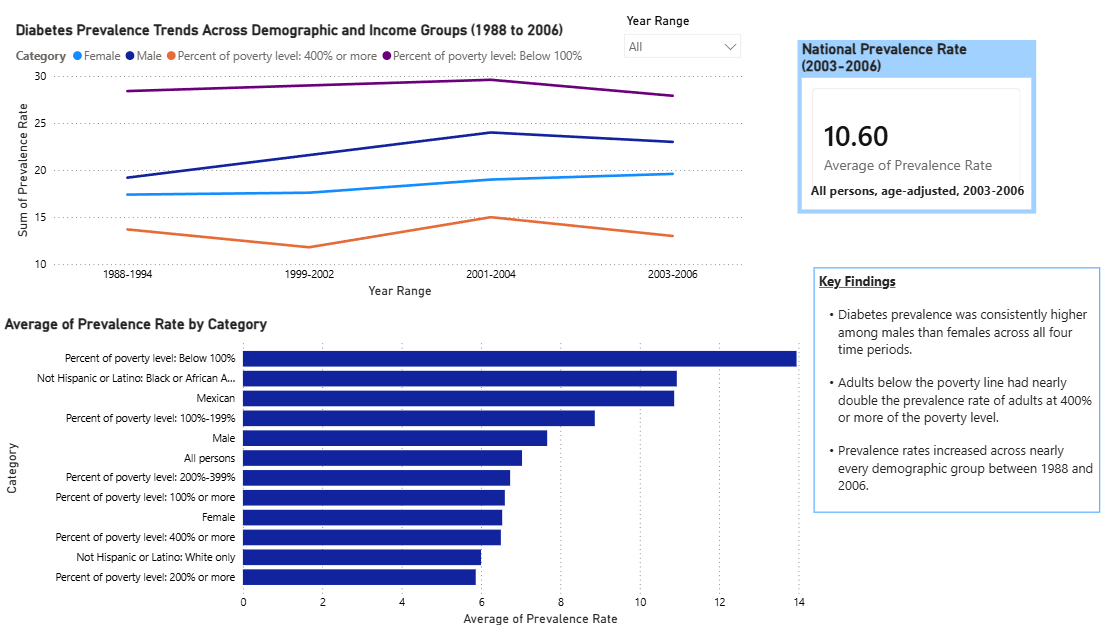

The page's visual inventory and layout, read from the dashboard file:
{"tool":"powerbi","page":{"name":"Page 1","canvas":[1280,720],"ordinal":0},"visuals":[{"type":"lineChart","title":"Diabetes Prevalence Trends Across Demographic and Income Groups (1988 to 2006)","fields":{"Category":["diabetes_data.Year Range"],"Y":["Sum(diabetes_data.Prevalence Rate)"],"Series":["diabetes_data.Category"]},"box":[12.9,24.3,844.3,321.4],"z":0},{"type":"clusteredBarChart","fields":{"Category":["diabetes_data.Category"],"Y":["Avg(diabetes_data.Prevalence Rate)"]},"box":[0,359.5,970.2,360.9],"z":1000},{"type":"cardVisual","title":"National Prevalence Rate (2003-2006)","fields":{"Data":["Avg(diabetes_data.Prevalence Rate)"]},"box":[911.4,45.7,272.9,198.6],"z":2000},{"type":"textbox","box":[921.4,202.9,254.3,41.4],"z":3000},{"type":"textbox","box":[930,305.7,327.1,280],"z":4000},{"type":"slicer","fields":{"Values":["diabetes_data.Year Range"]},"box":[702.9,10,154.3,71.4],"z":5000}]}

Visuals, with their boxes in screenshot pixels (x1, y1, x2, y2), scaled from the page's 1280x720 canvas onto the 1118x627 screenshot:
"Diabetes Prevalence Trends Across Demographic and Income Groups (1988 to 2006)" lineChart: locate(11, 21, 749, 301)
clusteredBarChart - diabetes_data.Category x Avg(diabetes_data.Prevalence Rate): locate(0, 313, 847, 626)
"National Prevalence Rate (2003-2006)" cardVisual: locate(796, 40, 1034, 213)
textbox: locate(805, 177, 1027, 213)
textbox: locate(812, 266, 1098, 510)
slicer - diabetes_data.Year Range: locate(614, 9, 749, 71)
